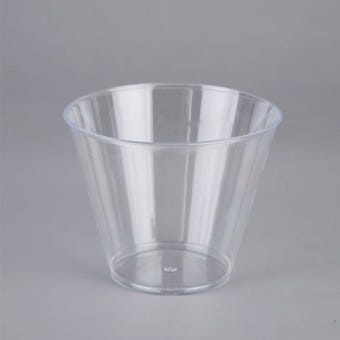plastic: (47, 73, 296, 306)
